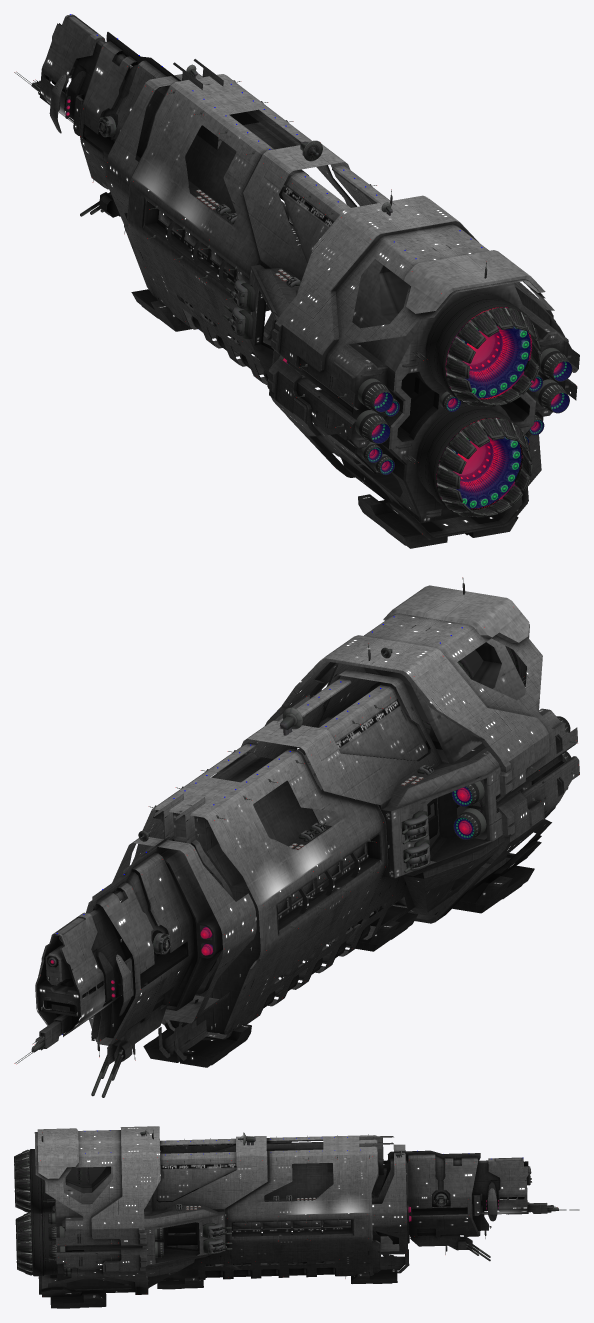
The picture shows the model from 3 angles, top to bottom: view 1: azimuth 30°, elevation 25°; view 2: azimuth 150°, elevation 25°; view 3: azimuth 270°, elevation 25°; orthographic projection. The views are drawn at different scales.
Visible parts, largest first — view 1: unsc_halcyon_class_cruiser_poa_pillar_of_autumn2_0_8, unsc_halcyon_class_cruiser_poa_pillar_of_autumn1_0_7, unsc_halcyon_class_cruiser_poa_pillar_of_autumn_details_0_9; view 2: unsc_halcyon_class_cruiser_poa_pillar_of_autumn2_0_8, unsc_halcyon_class_cruiser_poa_pillar_of_autumn1_0_7, unsc_halcyon_class_cruiser_poa_pillar_of_autumn_details_0_9; view 3: unsc_halcyon_class_cruiser_poa_pillar_of_autumn2_0_8, unsc_halcyon_class_cruiser_poa_pillar_of_autumn1_0_7, unsc_halcyon_class_cruiser_poa_pillar_of_autumn_details_0_9.
Boxes of the visible parts, box(x1,y1,x2,y2) form: unsc_halcyon_class_cruiser_poa_pillar_of_autumn2_0_8: box(124, 74, 568, 523); unsc_halcyon_class_cruiser_poa_pillar_of_autumn1_0_7: box(40, 14, 579, 548); unsc_halcyon_class_cruiser_poa_pillar_of_autumn_details_0_9: box(14, 64, 572, 517); unsc_halcyon_class_cruiser_poa_pillar_of_autumn2_0_8: box(131, 638, 568, 1039); unsc_halcyon_class_cruiser_poa_pillar_of_autumn1_0_7: box(35, 585, 579, 1067); unsc_halcyon_class_cruiser_poa_pillar_of_autumn_details_0_9: box(15, 577, 579, 1097); unsc_halcyon_class_cruiser_poa_pillar_of_autumn2_0_8: box(55, 1135, 381, 1290); unsc_halcyon_class_cruiser_poa_pillar_of_autumn1_0_7: box(34, 1126, 547, 1308); unsc_halcyon_class_cruiser_poa_pillar_of_autumn_details_0_9: box(14, 1130, 579, 1278).
Size of the model in its own units: 386 by 433 by 1304.
Materials: 7 (3 with a texture image).
